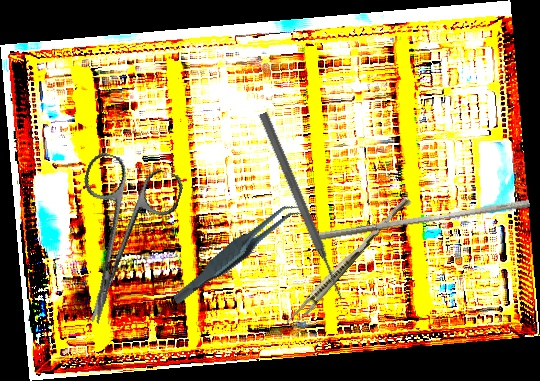Iris Scissors: (44, 149, 187, 336)
Pusher: (256, 110, 348, 303), (311, 192, 531, 250)
Tissue Forceps: (285, 192, 412, 331), (158, 200, 315, 306)
